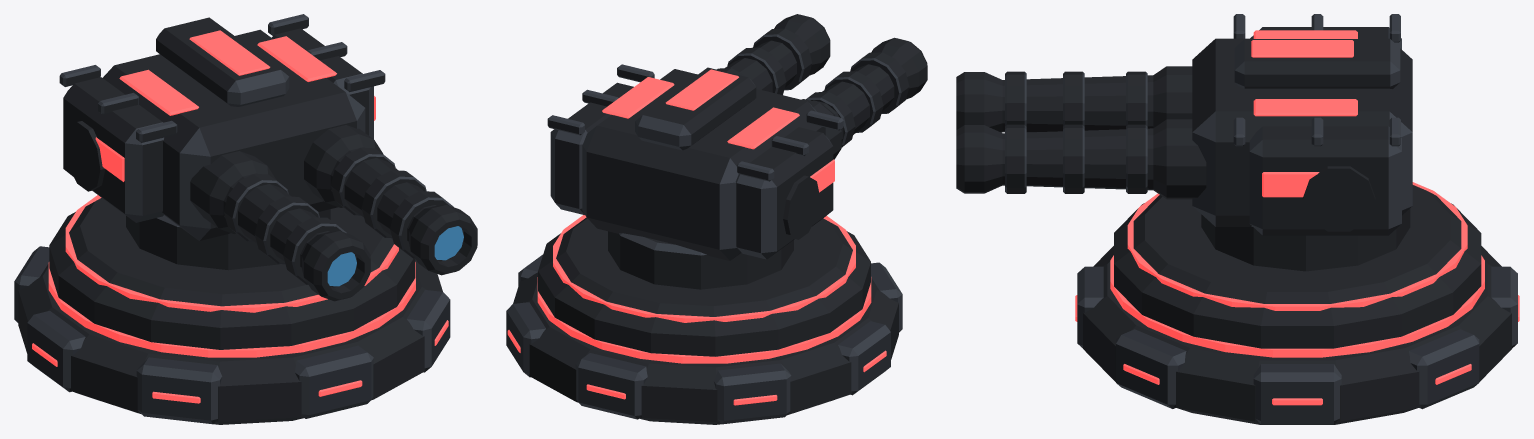
The model's file is thorn.glb.
3 views of the same model, side by side, from view 1: azimuth 30°, elevation 25°; view 2: azimuth 150°, elevation 25°; view 3: azimuth 270°, elevation 25° (orthographic). The views are drawn at different scales.
Parts seen in each view (by area): view 1: THORN; view 2: THORN; view 3: THORN.
Boxes of the visible parts, x1=… form: THORN: x1=14, y1=14, x2=477, y2=424; THORN: x1=506, y1=14, x2=927, y2=424; THORN: x1=956, y1=14, x2=1519, y2=424.
Size of the model in its own units: 2.68 by 1.99 by 3.4.
